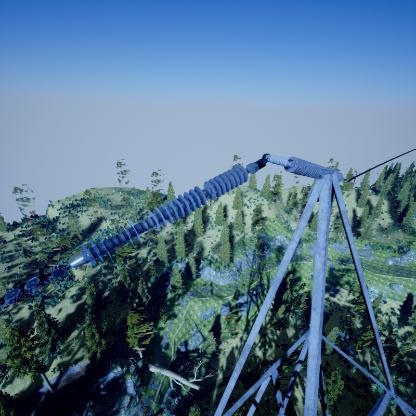insulator: (82, 164, 249, 265), (282, 152, 346, 184)
